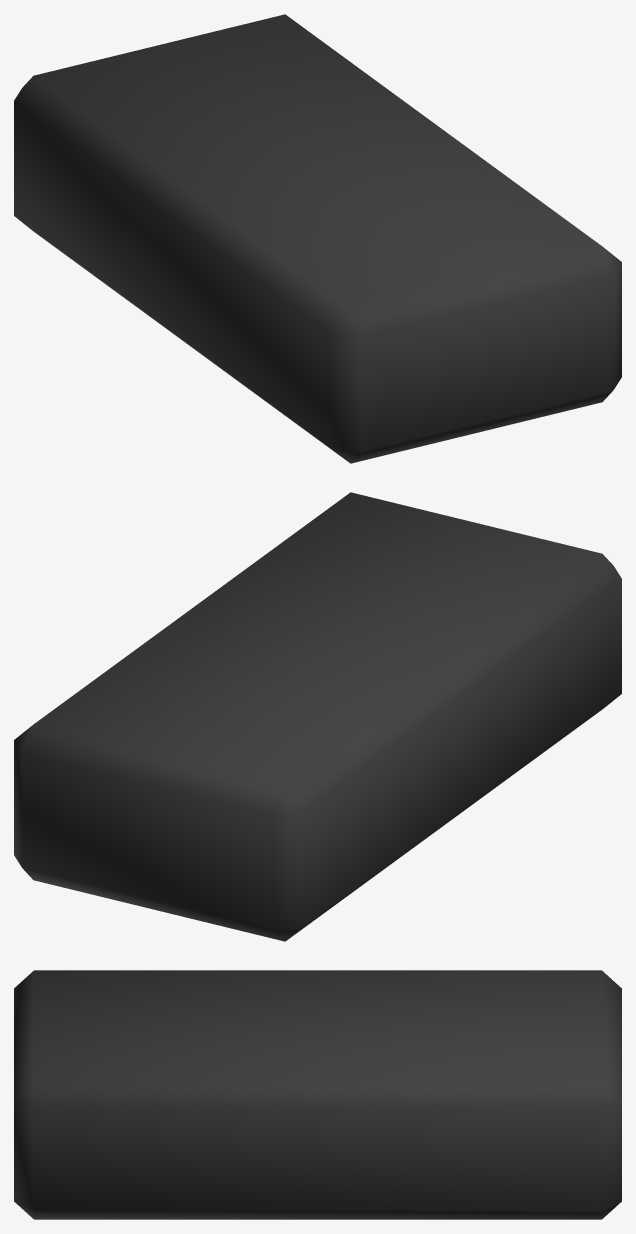
The model's file is Podest_2_1.glb.
3 renders of one model, top to bottom at view 1: azimuth 30°, elevation 25°; view 2: azimuth 150°, elevation 25°; view 3: azimuth 270°, elevation 25°, orthographic. The views are drawn at different scales.
Parts seen in each view (by area): view 1: Podest_2_1; view 2: Podest_2_1; view 3: Podest_2_1.
Part boxes in pixels (<box>): Podest_2_1: <box>14,14,621,463</box>; Podest_2_1: <box>14,492,621,941</box>; Podest_2_1: <box>14,970,621,1219</box>.
Bounding box in the file's own units: 0.3788 × 0.1939 × 0.7665.
Materials: 1 (1 with a texture image).
